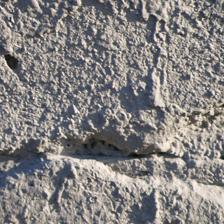Crack: (27, 65, 155, 107)
